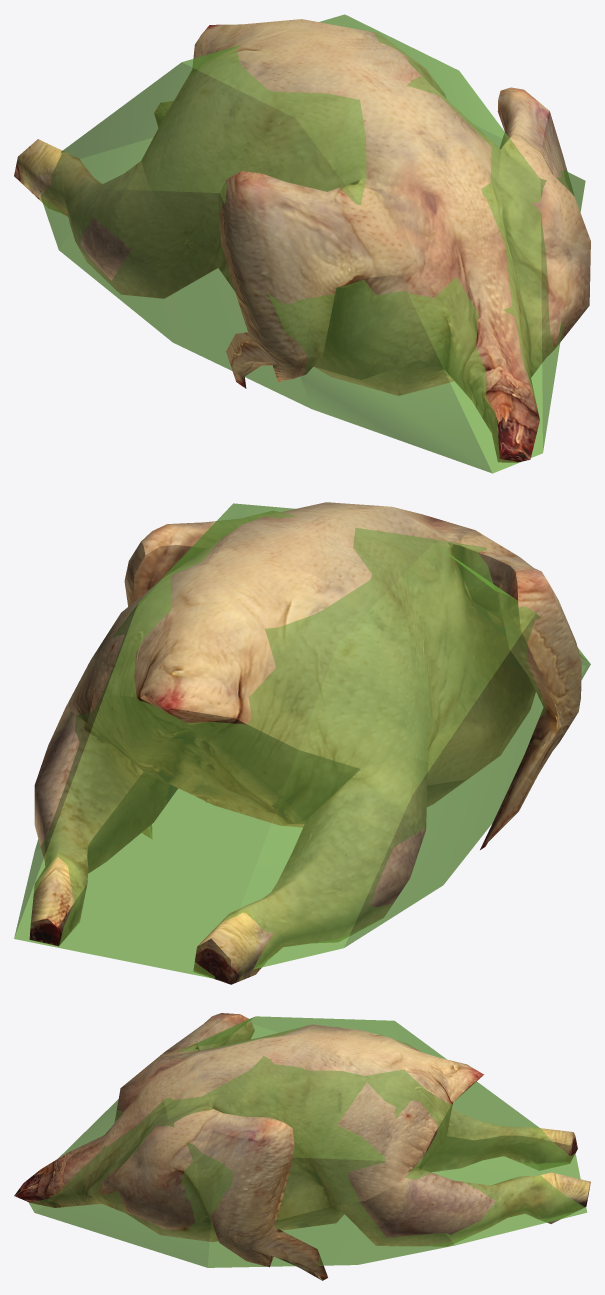
File: pg_Chicken_01.fbx
3 views of the same model, one above another, from view 1: azimuth 30°, elevation 25°; view 2: azimuth 150°, elevation 25°; view 3: azimuth 270°, elevation 25° (orthographic). The views are drawn at different scales.
Visible parts, largest first — view 1: pg_Chicken_01_a_LOD0, pg_Chicken_01_a_col; view 2: pg_Chicken_01_a_LOD0, pg_Chicken_01_a_col; view 3: pg_Chicken_01_a_LOD0, pg_Chicken_01_a_col.
Part boxes in pixels (<box>): pg_Chicken_01_a_LOD0: <box>14,19,590,462</box>; pg_Chicken_01_a_col: <box>40,14,585,473</box>; pg_Chicken_01_a_LOD0: <box>29,502,581,984</box>; pg_Chicken_01_a_col: <box>14,503,590,978</box>; pg_Chicken_01_a_LOD0: <box>14,1013,590,1280</box>; pg_Chicken_01_a_col: <box>28,1016,587,1267</box>.
Size of what is drawn, in the model's own units: 23.7 by 18.66 by 47.66.
2 materials, 1 textured.
